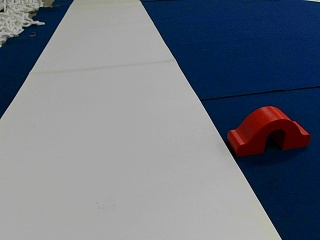bridge: (228, 106, 309, 150)
